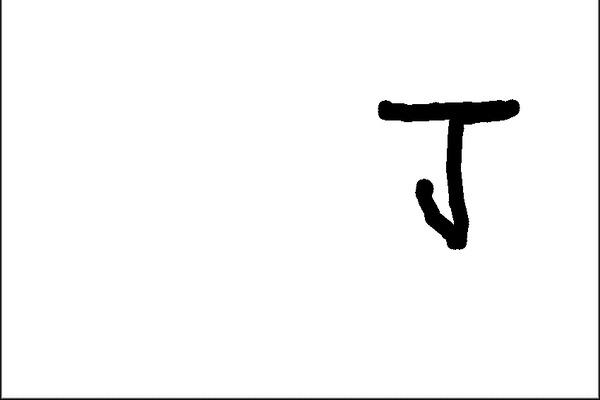J: (373, 85, 523, 253)
